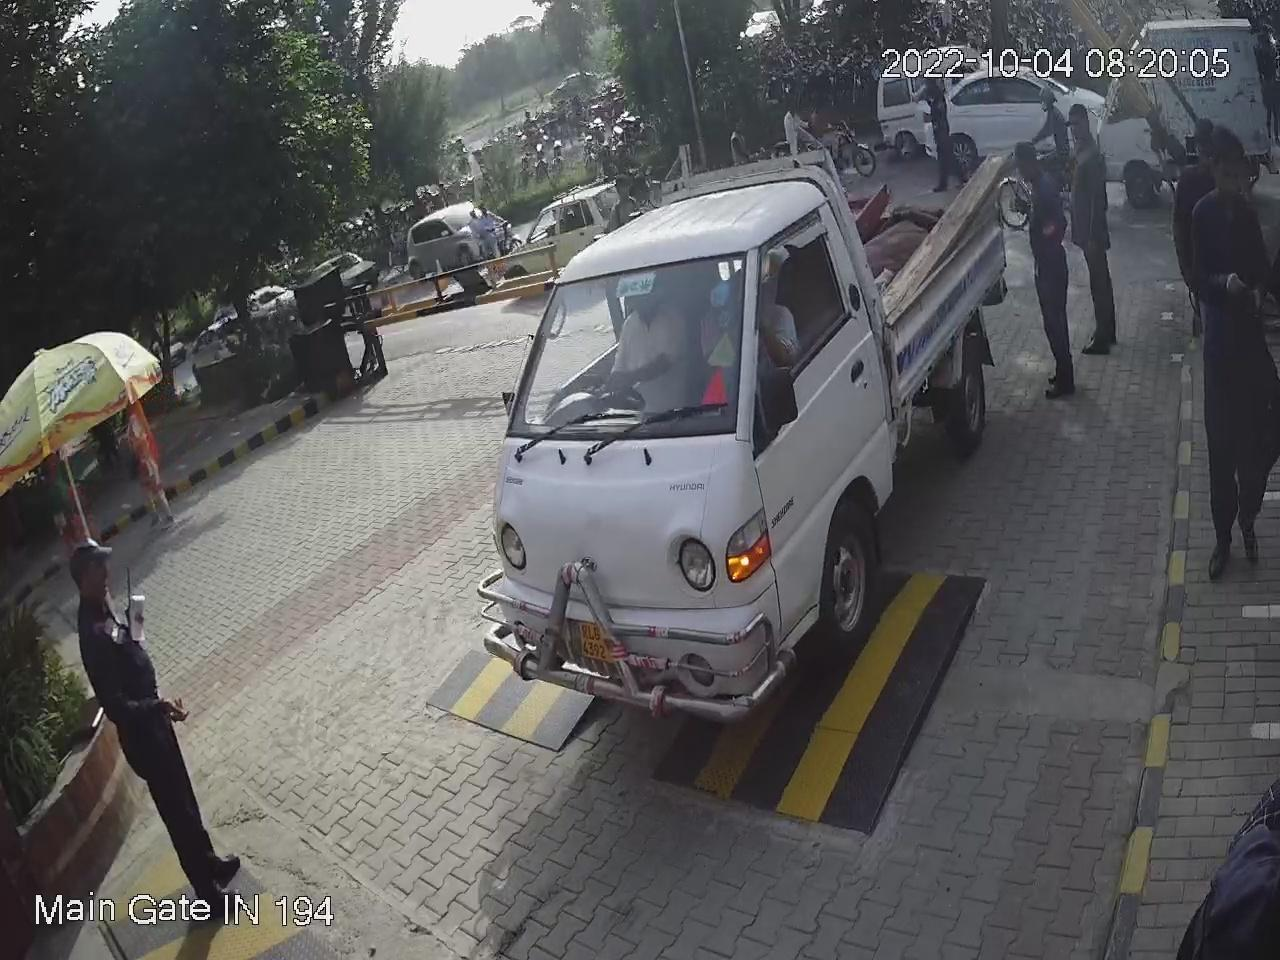windshield: (503, 240, 744, 463)
